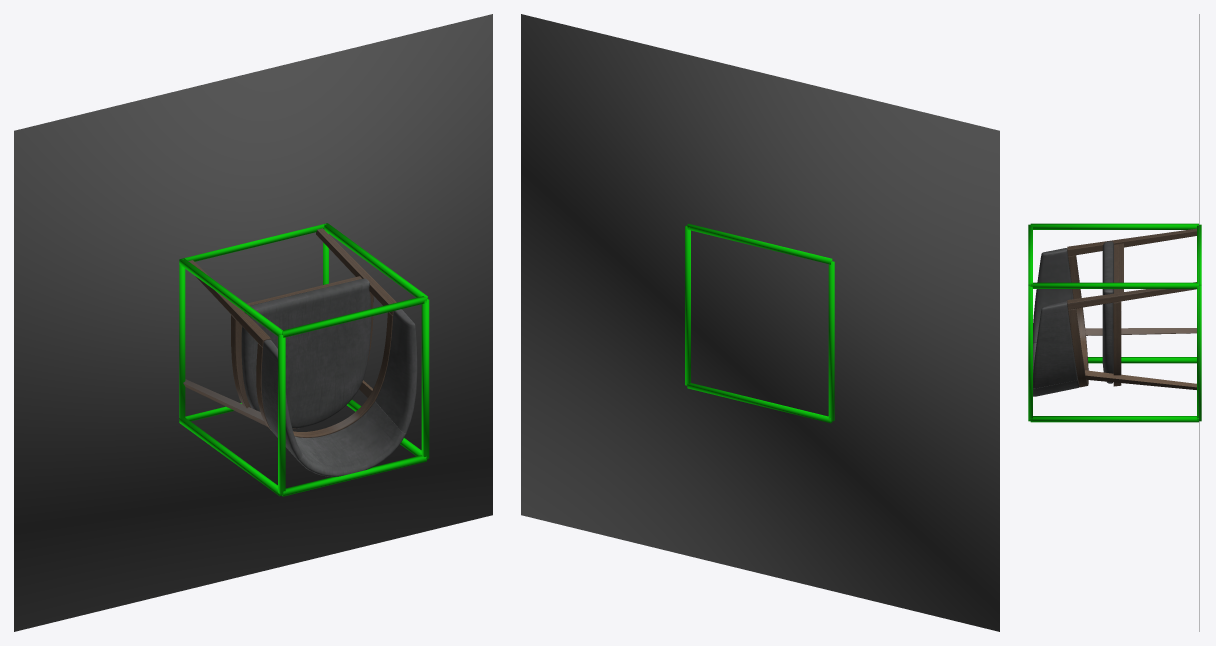
3 renders of one model, left to right at view 1: azimuth 30°, elevation 25°; view 2: azimuth 150°, elevation 25°; view 3: azimuth 270°, elevation 25°, orthographic. The views are drawn at different scales.
Bounding box in the file's own units: 2 × 2 × 0.7447.
